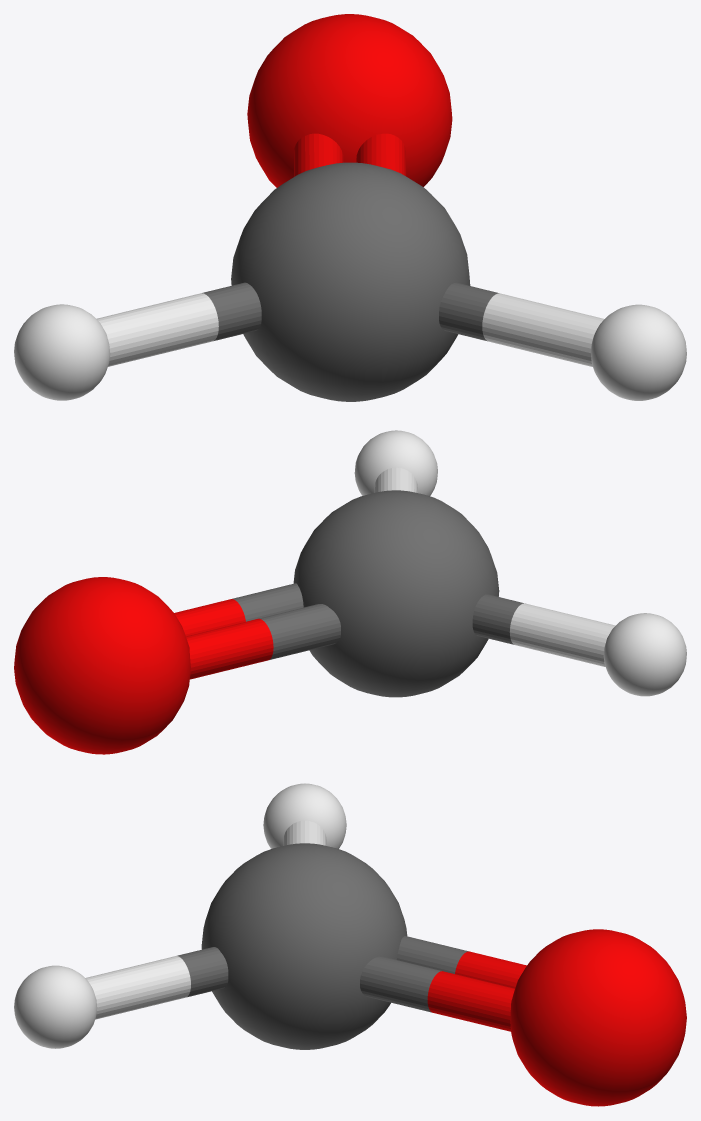
Rendered from formaldehyde.fbx.
The picture shows the model from 3 angles, top to bottom: view 1: azimuth 30°, elevation 25°; view 2: azimuth 150°, elevation 25°; view 3: azimuth 270°, elevation 25°; orthographic projection. The views are drawn at different scales.
Parts seen in each view (by area): view 1: C01, O04, C01-H03, C01-H02, H02, H03, C01=O04, C01=O04.001; view 2: C01, O04, C01=O04, C01-H03, H03, H02, C01=O04.001, C01-H02; view 3: C01, O04, C01=O04.001, C01-H02, H02, H03, C01=O04, C01-H03.
Part boxes in pixels (x1,y1,x2,y2): C01: [231, 162, 470, 401]; O04: [247, 14, 452, 187]; C01-H03: [96, 282, 261, 366]; C01-H02: [439, 282, 604, 366]; H02: [591, 304, 686, 400]; H03: [14, 304, 110, 400]; C01=O04: [294, 133, 343, 176]; C01=O04.001: [356, 133, 406, 176]; C01: [293, 490, 499, 697]; O04: [14, 577, 190, 754]; C01=O04: [186, 604, 340, 679]; C01-H03: [472, 594, 615, 666]; H03: [603, 613, 686, 696]; H02: [354, 430, 437, 496]; C01=O04.001: [174, 583, 303, 636]; C01-H02: [374, 467, 417, 492]; C01: [201, 843, 407, 1049]; O04: [510, 929, 686, 1106]; C01=O04.001: [360, 956, 514, 1031]; C01-H02: [85, 947, 228, 1019]; H02: [14, 965, 97, 1048]; H03: [263, 783, 346, 848]; C01=O04: [397, 936, 526, 988]; C01-H03: [283, 820, 326, 845].
Bounding box in the file's own units: 218 × 77 × 250.
